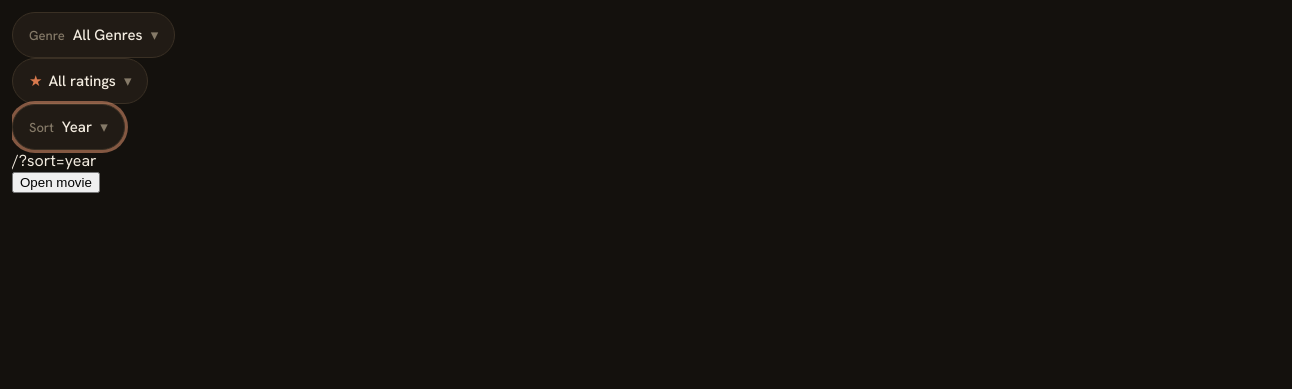
Scenario: LibraryFilters — the option list › ticks exactly one order, and it is the current one
The width and height of the screenshot is (1292, 389).
What coordinates should you click on to do the following:
click the button "Sort Year ▾"
I would click on:
 (68, 127)
Its box is left=12, top=104, right=125, bottom=150.
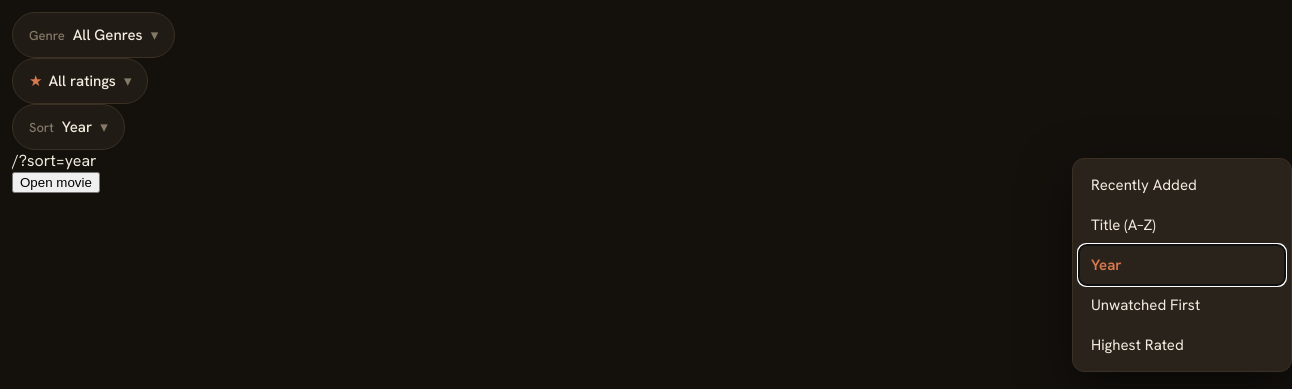
Expected: the menu item "Year" is shown, left=1079, top=245, right=1285, bottom=285
